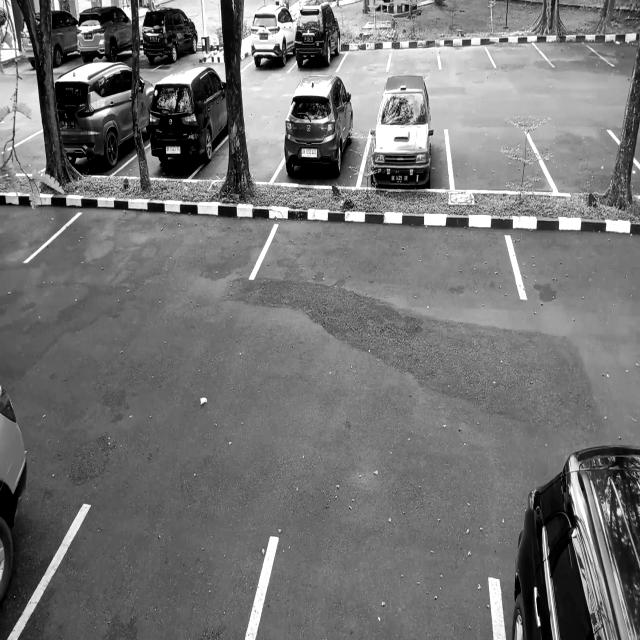occupied: (268, 126, 373, 190), (355, 129, 455, 192), (287, 48, 352, 73)
vacant: (7, 494, 280, 640), (245, 540, 507, 640), (247, 210, 531, 299), (27, 200, 281, 279), (524, 98, 640, 199), (188, 115, 305, 194), (443, 129, 561, 195), (528, 40, 615, 67), (481, 41, 555, 69), (435, 43, 497, 70), (385, 45, 442, 72), (335, 48, 394, 73)
